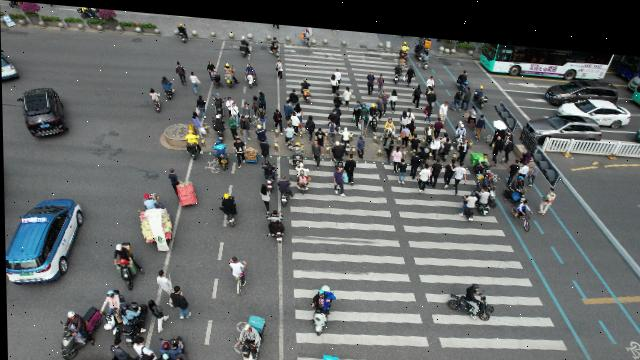non-motor-vehicle: (447, 274, 496, 309), (61, 304, 102, 345), (140, 193, 168, 242), (307, 277, 330, 329), (237, 314, 261, 360), (119, 300, 144, 334), (159, 331, 187, 360), (113, 238, 132, 280), (228, 252, 249, 289), (217, 190, 238, 223), (101, 288, 118, 327), (511, 191, 531, 219), (184, 126, 202, 157), (268, 203, 283, 237), (328, 135, 346, 160), (475, 179, 491, 206), (504, 168, 523, 190), (161, 73, 176, 100), (279, 173, 293, 201), (146, 86, 163, 109), (210, 111, 226, 135), (473, 145, 491, 166), (339, 120, 353, 146), (260, 154, 273, 181), (225, 58, 237, 85), (461, 185, 473, 212), (475, 79, 489, 101), (300, 73, 312, 98), (216, 143, 229, 166), (246, 60, 258, 83), (291, 136, 304, 157), (295, 160, 308, 180), (239, 32, 250, 54), (369, 98, 380, 120), (75, 6, 95, 18), (319, 348, 339, 360), (213, 138, 227, 155), (478, 167, 497, 179), (211, 92, 224, 109), (398, 34, 409, 54), (286, 119, 296, 141), (466, 101, 477, 121), (456, 112, 467, 132), (441, 126, 451, 148), (394, 56, 404, 77), (269, 34, 280, 53), (458, 60, 469, 79), (254, 121, 268, 135), (303, 23, 313, 42), (420, 44, 431, 61), (177, 20, 187, 38), (421, 134, 431, 151), (384, 112, 395, 126), (423, 30, 433, 44), (414, 35, 423, 50), (411, 128, 418, 144)
person: (167, 166, 197, 202), (146, 297, 169, 330), (131, 332, 155, 360), (233, 133, 255, 161), (167, 283, 189, 309), (155, 267, 170, 296), (542, 179, 555, 212), (109, 343, 131, 360), (455, 153, 466, 185), (331, 162, 344, 189), (418, 157, 431, 184), (346, 152, 359, 177), (192, 109, 204, 136), (193, 92, 206, 116), (206, 59, 220, 80), (315, 122, 329, 142), (258, 183, 270, 206), (312, 135, 322, 161), (189, 69, 201, 90), (365, 63, 375, 88), (431, 154, 442, 176), (494, 126, 502, 155), (227, 110, 238, 131), (175, 59, 185, 82), (410, 144, 419, 169), (384, 128, 392, 156), (240, 114, 250, 136), (356, 132, 366, 154), (257, 99, 266, 123), (398, 152, 407, 176), (343, 80, 353, 101), (329, 65, 339, 86), (389, 84, 399, 105), (459, 133, 469, 154), (404, 57, 415, 76), (259, 137, 270, 156), (477, 107, 486, 130), (327, 110, 339, 127), (275, 55, 285, 74), (306, 111, 315, 132), (446, 150, 453, 177), (424, 93, 432, 115), (454, 80, 462, 102), (273, 106, 282, 125), (507, 150, 516, 169), (291, 107, 301, 124), (505, 129, 513, 150), (413, 78, 421, 98), (333, 62, 345, 75), (327, 103, 340, 115), (402, 118, 408, 144), (519, 156, 531, 169), (517, 141, 529, 154), (284, 94, 291, 116), (436, 109, 443, 130), (531, 158, 540, 174), (426, 68, 436, 82), (441, 93, 451, 107), (353, 102, 360, 122), (435, 129, 441, 152), (382, 82, 388, 102), (335, 87, 344, 100), (393, 138, 399, 157), (465, 80, 471, 99), (295, 97, 302, 113), (400, 104, 407, 120), (426, 118, 433, 134), (242, 100, 251, 112), (231, 99, 238, 114), (288, 82, 296, 95), (427, 83, 437, 93), (226, 92, 233, 106), (258, 85, 265, 99), (250, 89, 257, 102), (409, 112, 416, 125), (332, 99, 342, 108), (378, 67, 382, 86), (406, 102, 414, 111), (376, 90, 382, 101)
